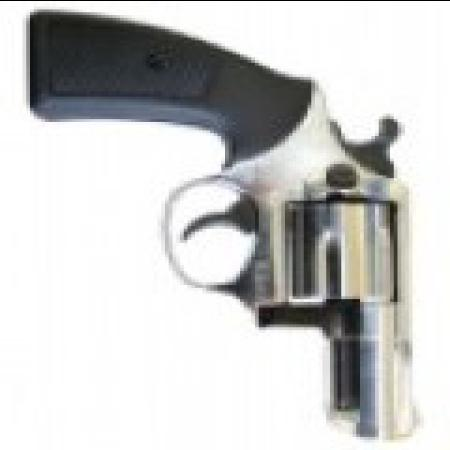Pistol: (34, 17, 428, 445)
